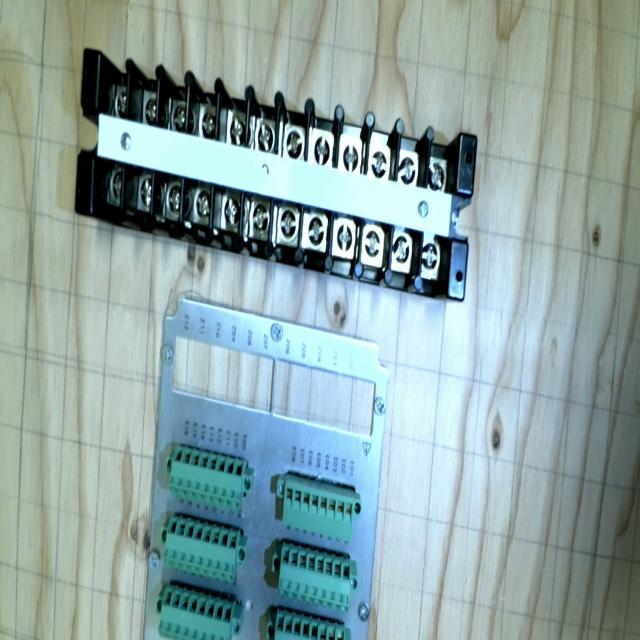Phillips_Block: (49, 48, 498, 299)
Terminal_2: (165, 445, 252, 512), (159, 516, 246, 583), (271, 546, 359, 612)
